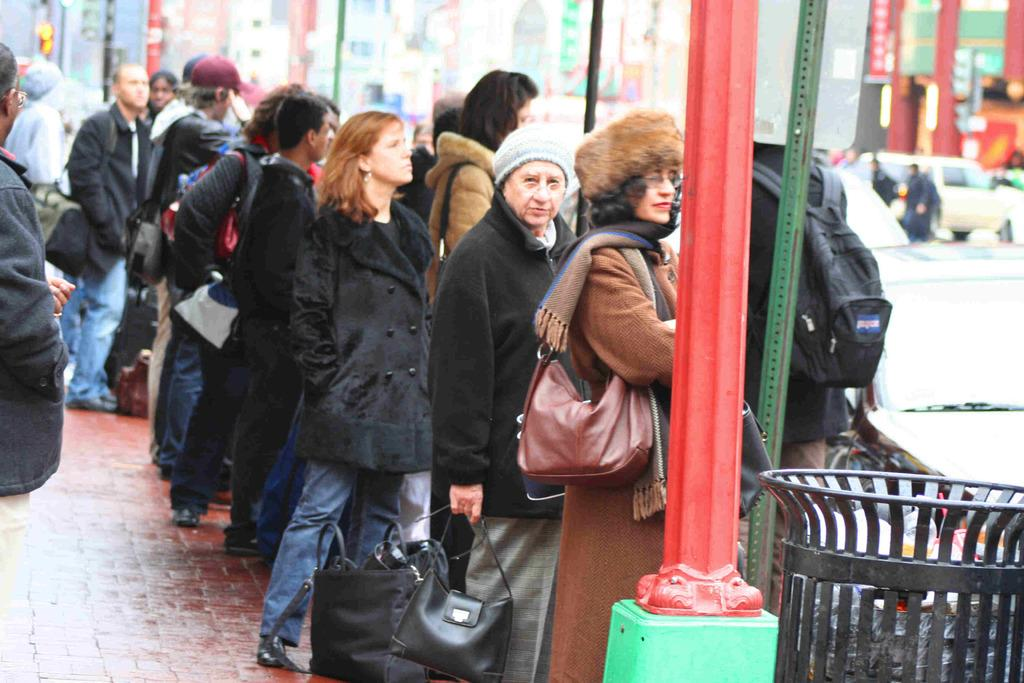Luggage-and-bags: (753, 162, 893, 391), (263, 525, 434, 682), (389, 504, 520, 682), (519, 347, 658, 488), (31, 113, 120, 278), (120, 111, 190, 289), (159, 274, 245, 362), (735, 402, 772, 517)
